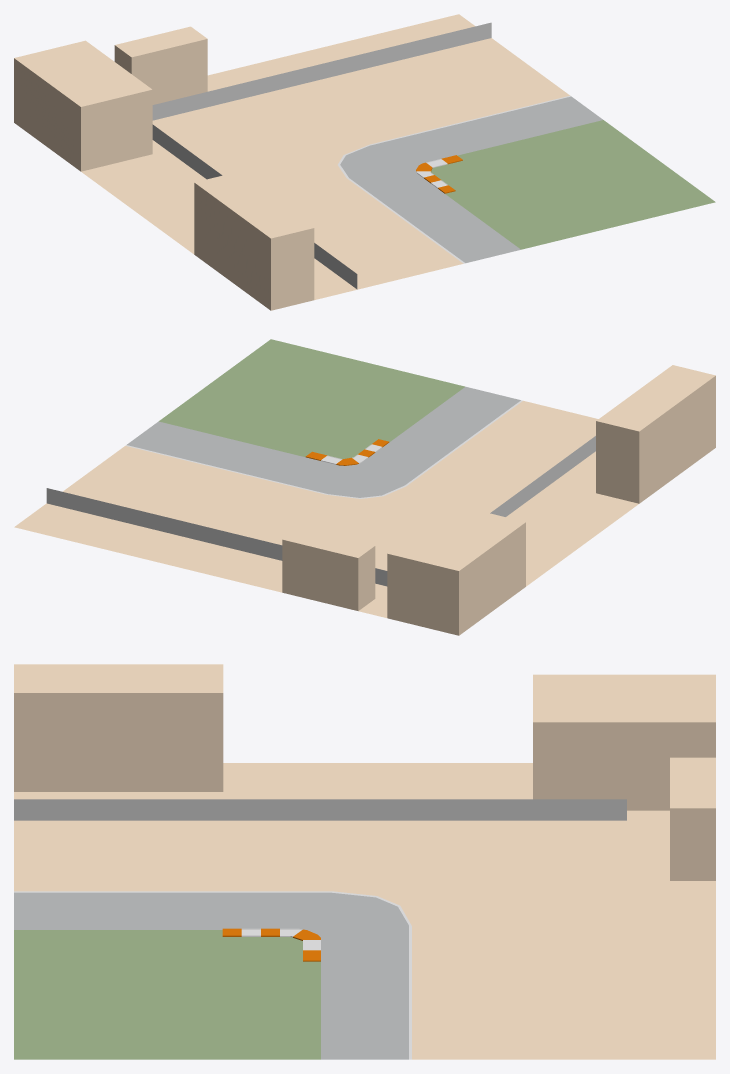
File: map02.gltf
The picture shows the model from 3 angles, top to bottom: view 1: azimuth 30°, elevation 25°; view 2: azimuth 150°, elevation 25°; view 3: azimuth 270°, elevation 25°; orthographic projection. The views are drawn at different scales.
Visible parts, largest first — view 1: Node34, Node2, Node1, Node35, Node45, Node47, Node36, Node38, Node37, Node51, Node41, Node42 (+3 smaller); view 2: Node34, Node2, Node35, Node1, Node45, Node36, Node40, Node37, Node49, Node47, Node41, Node44 (+4 smaller); view 3: Node34, Node2, Node35, Node1, Node43, Node46, Node39, Node36, Node41, Node52, Node48, Node33.
Part boxes in pixels (x1,y1,x2,y2): Node34: (152,38,569,289); Node2: (431,120,715,249); Node1: (340,96,602,263); Node35: (81,14,474,299); Node45: (194,183,270,310); Node47: (152,22,491,120); Node36: (14,40,151,106); Node38: (81,89,152,171); Node37: (14,58,80,171); Node51: (131,39,207,104); Node41: (194,172,313,238); Node42: (271,228,314,310); Node34: (63,400,598,570); Node2: (159,339,464,458); Node35: (14,451,638,617); Node1: (127,386,520,497); Node45: (639,376,715,503); Node36: (388,504,525,570); Node40: (387,553,458,635); Node37: (459,522,525,635); Node49: (282,539,358,610); Node47: (46,488,387,586); Node41: (596,365,715,431); Node44: (596,421,639,503); Node34: (14,820,626,1059); Node2: (14,930,320,1059); Node35: (14,763,715,1059); Node1: (14,892,408,1059); Node43: (14,693,223,791); Node46: (14,799,626,820); Node39: (533,722,715,810); Node36: (533,674,715,722); Node41: (14,664,223,692); Node52: (670,808,715,880); Node48: (670,757,715,808); Node33: (14,891,411,1059).
Bounding box in the file's own units: 2139194 × 331853 × 2139194.
